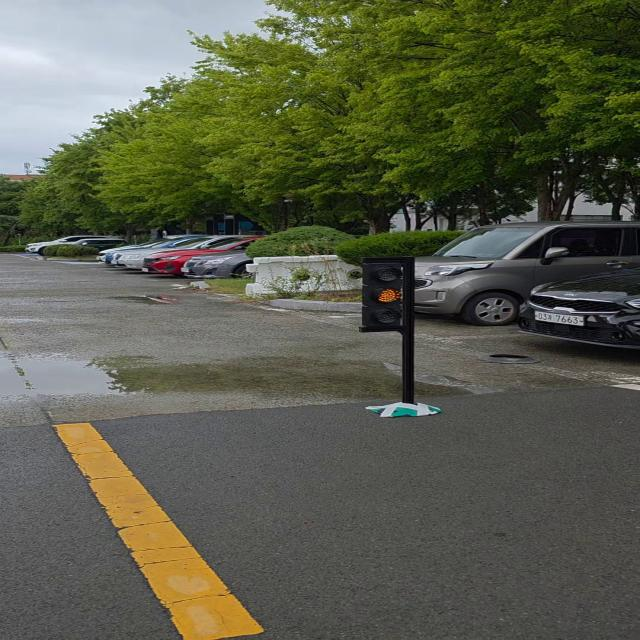yellow: (367, 258, 409, 331)
